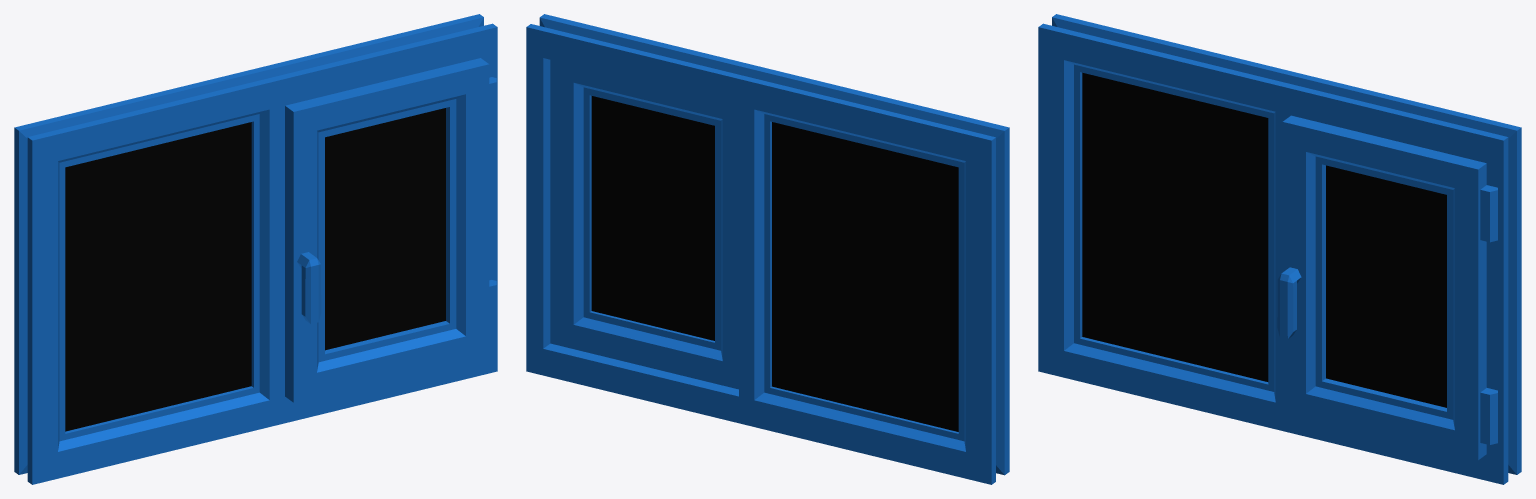
Rendered from space_window_1.fbx.
3 views of the same model, side by side, from view 1: azimuth 30°, elevation 25°; view 2: azimuth 150°, elevation 25°; view 3: azimuth 330°, elevation 25° (orthographic).
Visible parts, largest first — view 1: Cube_88; view 2: Cube_88; view 3: Cube_88.
Part boxes in pixels (<box>): Cube_88: <box>14,14,497,484</box>; Cube_88: <box>526,14,1009,484</box>; Cube_88: <box>1038,14,1521,484</box>.
Size of the model in its own units: 120 by 84.88 by 16.28.
